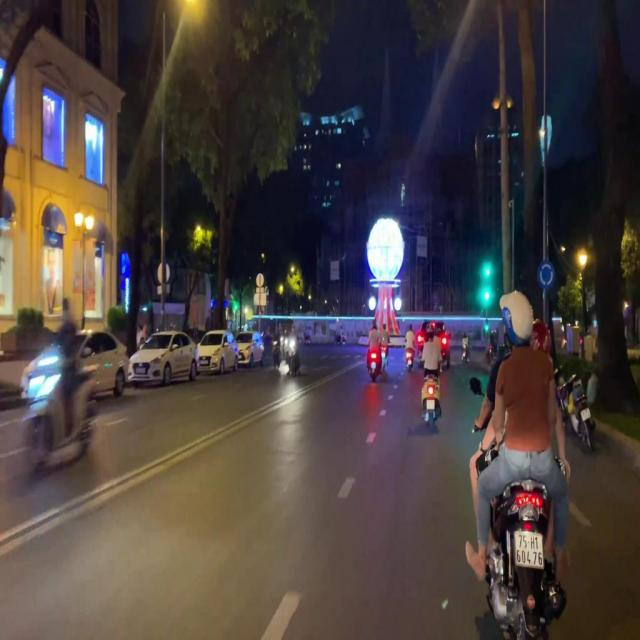noi_giao_nhau_chay_theo_vong: (537, 260, 556, 290)
